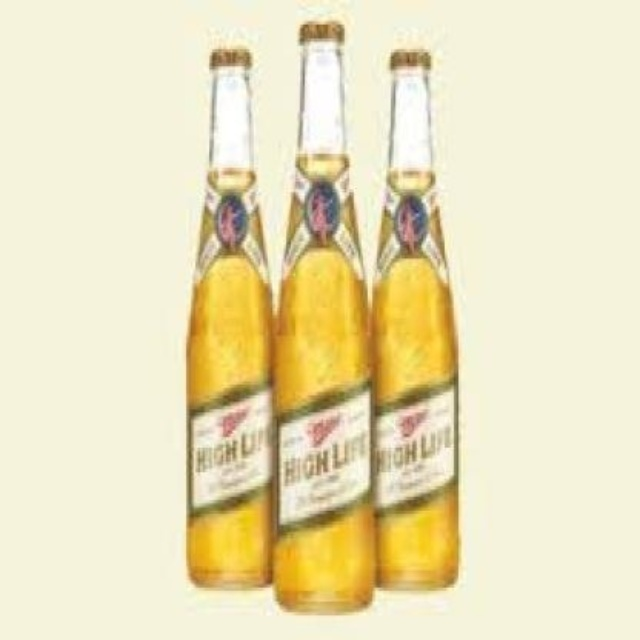trash: (274, 22, 372, 611), (372, 49, 457, 589), (188, 48, 271, 588)
